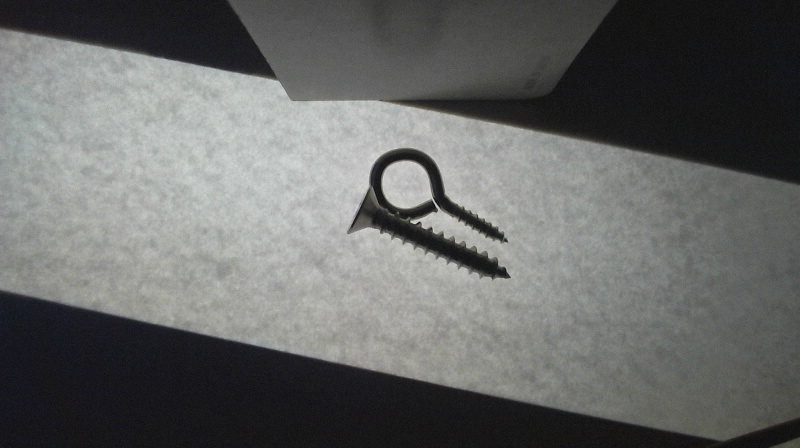O001: (366, 147, 513, 245)
S001: (345, 191, 517, 282)
